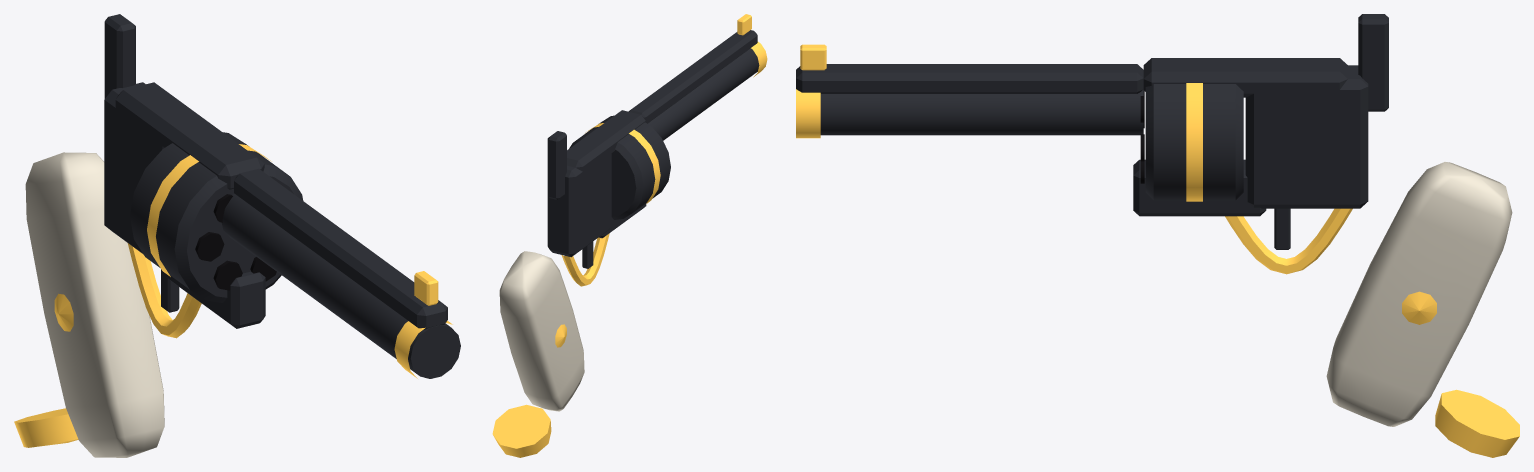
File: lb4_revolver.glb
The picture shows the model from 3 angles, left to right: view 1: azimuth 30°, elevation 25°; view 2: azimuth 150°, elevation 25°; view 3: azimuth 270°, elevation 25°; orthographic projection. The views are drawn at different scales.
Visible parts, largest first — view 1: lb4_revolver; view 2: lb4_revolver; view 3: lb4_revolver.
Part boxes in pixels (bbox=[...]): lb4_revolver: bbox=[14, 14, 460, 457]; lb4_revolver: bbox=[492, 14, 767, 457]; lb4_revolver: bbox=[796, 14, 1519, 457].
Size of the model in its own units: 0.069 by 0.2337 by 0.3541.
